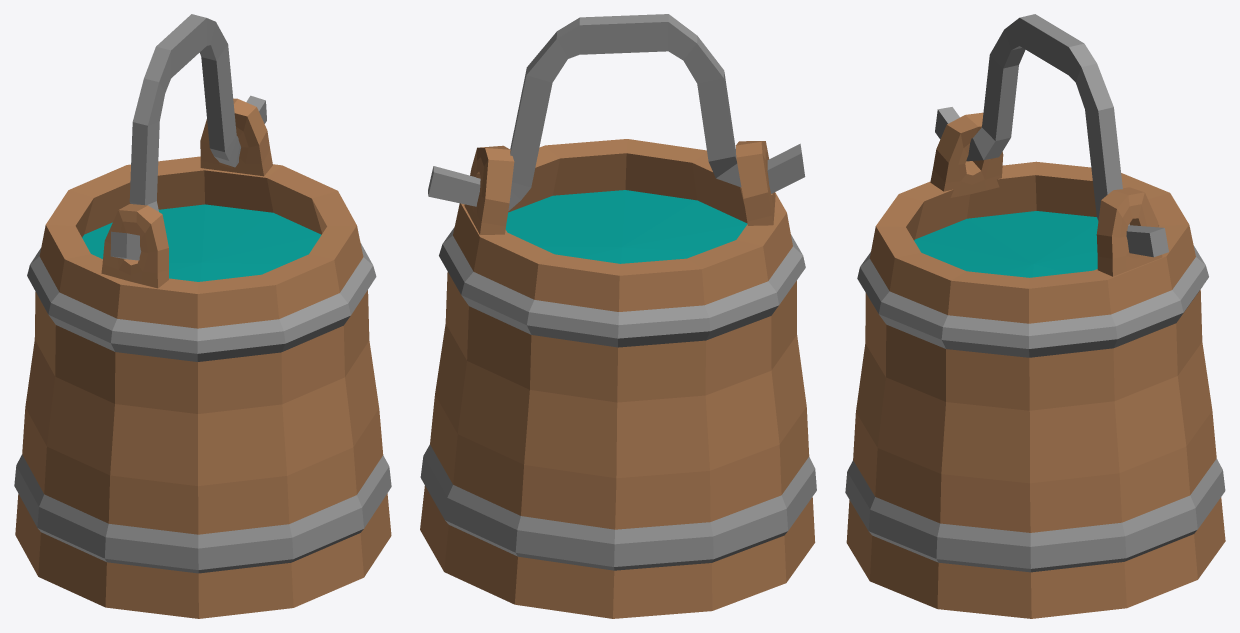
The model's file is Bucket_2.fbx.
3 views of the same model, side by side, from view 1: azimuth 30°, elevation 25°; view 2: azimuth 150°, elevation 25°; view 3: azimuth 270°, elevation 25° (orthographic). The views are drawn at different scales.
Parts seen in each view (by area): view 1: Bucket_2; view 2: Bucket_2; view 3: Bucket_2.
Boxes of the visible parts, x1,y1,x2,y2 form: Bucket_2: (14, 14, 391, 618); Bucket_2: (420, 14, 816, 618); Bucket_2: (845, 14, 1225, 618).
Bounding box in the file's own units: 51.23 × 51.21 × 75.61.
